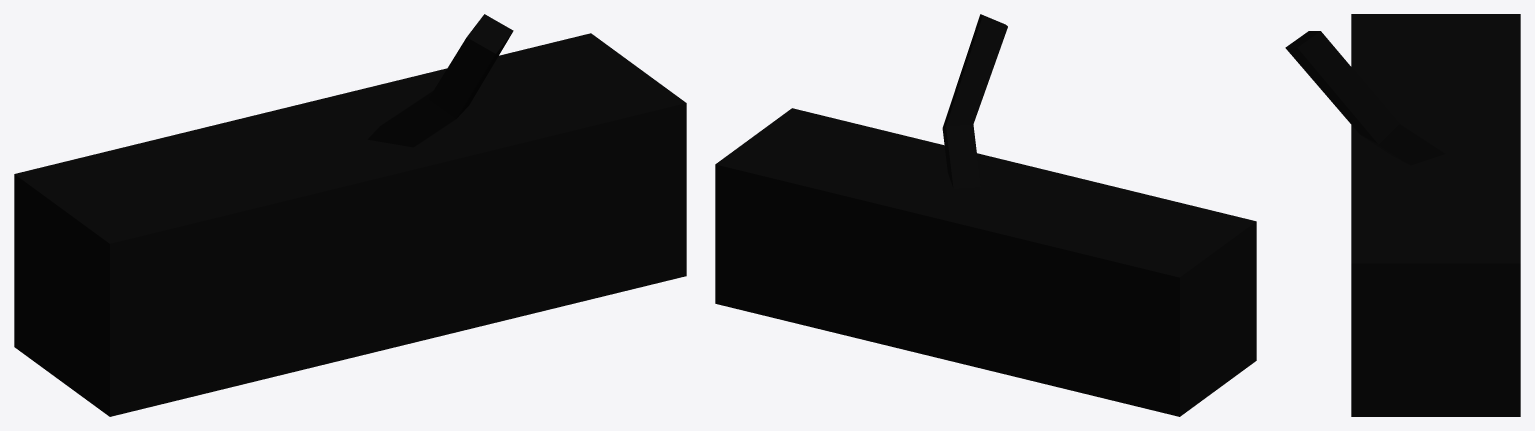
The model's file is log.obj.
The picture shows the model from 3 angles, left to right: view 1: azimuth 30°, elevation 25°; view 2: azimuth 150°, elevation 25°; view 3: azimuth 270°, elevation 25°; orthographic projection. The views are drawn at different scales.
Parts seen in each view (by area): view 1: Cube.391_Cube.422; view 2: Cube.391_Cube.422; view 3: Cube.391_Cube.422.
Boxes of the visible parts, x1,y1,x2,y2 form: Cube.391_Cube.422: [14, 14, 686, 416]; Cube.391_Cube.422: [715, 14, 1256, 416]; Cube.391_Cube.422: [1285, 14, 1520, 416].
Size of the model in its own units: 0.8876 by 0.4827 by 0.3541.
